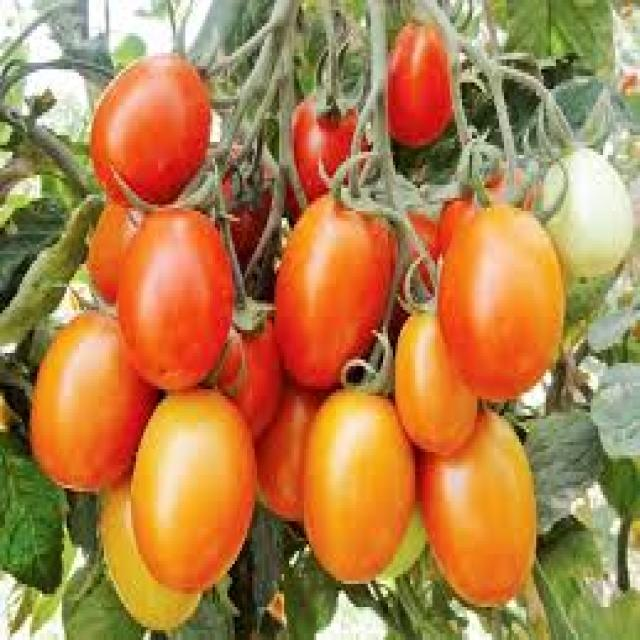Fresh_tomato: (442, 188, 567, 384), (150, 396, 267, 578), (280, 177, 387, 374), (314, 395, 426, 575), (421, 448, 556, 596), (93, 52, 213, 204), (38, 321, 139, 480), (133, 208, 225, 378)
